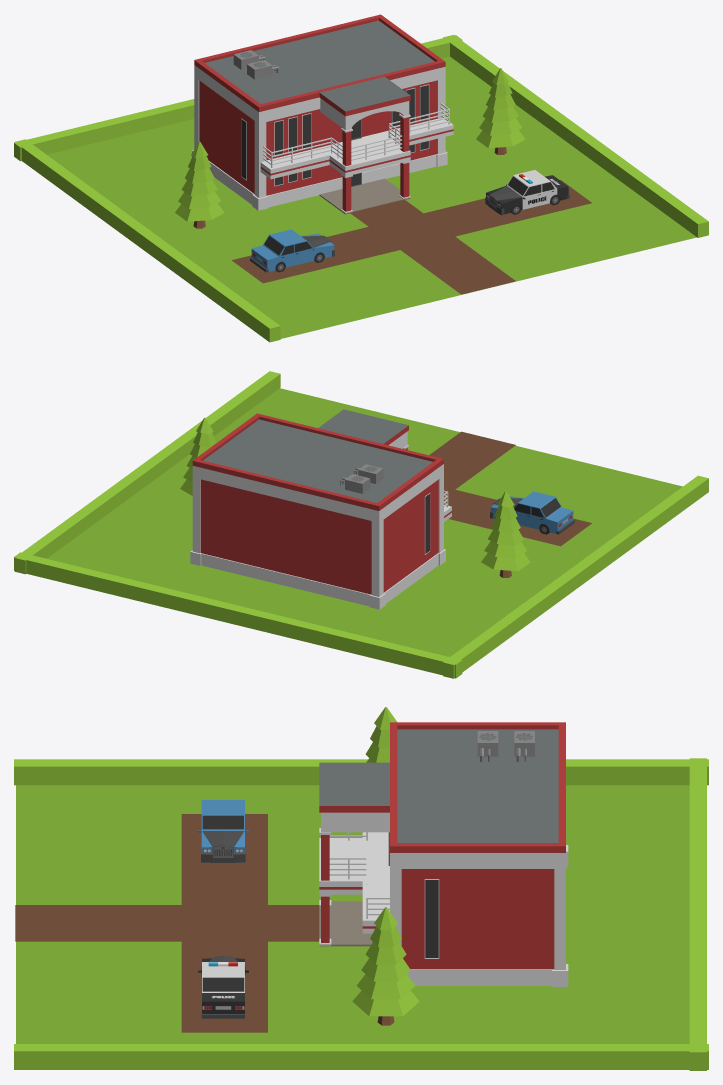
Rendered from residence.gltf.
The picture shows the model from 3 angles, top to bottom: view 1: azimuth 30°, elevation 25°; view 2: azimuth 150°, elevation 25°; view 3: azimuth 270°, elevation 25°; orthographic projection. The views are drawn at different scales.
Parts seen in each view (by area): view 1: Natures_Grass Tile_Plane.010, Building_House_03_color01_Cylinder.000, Natures_Grass Fence_Cube.2536 (×3), Road Concrete Tile_Plane.010 (×2), Natures_Fir Tree_Cylinder.004 (×2), Vehicle_Car_Cube.050, Vehicle_Police Car_Cube.036; view 2: Natures_Grass Tile_Plane.010, Building_House_03_color01_Cylinder.000, Natures_Grass Fence_Cube.2536 (×3), Road Concrete Tile_Plane.010 (×2), Natures_Fir Tree_Cylinder.004 (×2), Vehicle_Car_Cube.050; view 3: Natures_Grass Tile_Plane.010, Building_House_03_color01_Cylinder.000, Natures_Grass Fence_Cube.2536 (×3), Road Concrete Tile_Plane.010 (×2), Natures_Fir Tree_Cylinder.004 (×2), Vehicle_Car_Cube.050, Vehicle_Police Car_Cube.036.
Part boxes in pixels (box(x1,y1,x2,y2)): Natures_Grass Tile_Plane.010: box(47, 56, 696, 338); Building_House_03_color01_Cylinder.000: box(192, 14, 453, 214); Natures_Grass Fence_Cube.2536 (×3): box(14, 35, 708, 342); Road Concrete Tile_Plane.010 (×2): box(232, 180, 591, 294); Natures_Fir Tree_Cylinder.004 (×2): box(175, 68, 525, 228); Vehicle_Car_Cube.050: box(250, 229, 334, 272); Vehicle_Police Car_Cube.036: box(485, 170, 569, 215); Natures_Grass Tile_Plane.010: box(47, 388, 682, 656); Building_House_03_color01_Cylinder.000: box(190, 409, 451, 609); Natures_Grass Fence_Cube.2536 (×3): box(14, 371, 708, 678); Road Concrete Tile_Plane.010 (×2): box(429, 431, 591, 546); Natures_Fir Tree_Cylinder.004 (×2): box(180, 417, 530, 577); Vehicle_Car_Cube.050: box(490, 491, 574, 534); Natures_Grass Tile_Plane.010: box(16, 785, 689, 1043); Building_House_03_color01_Cylinder.000: box(319, 722, 568, 986); Natures_Grass Fence_Cube.2536 (×3): box(14, 758, 708, 1070); Road Concrete Tile_Plane.010 (×2): box(15, 814, 319, 1032); Natures_Fir Tree_Cylinder.004 (×2): box(352, 707, 419, 1025); Vehicle_Car_Cube.050: box(198, 800, 248, 862); Vehicle_Police Car_Cube.036: box(198, 955, 248, 1018).
Size of the model in its own units: 40.25 by 9.61 by 40.25.
Materials: 7 (7 with a texture image).
